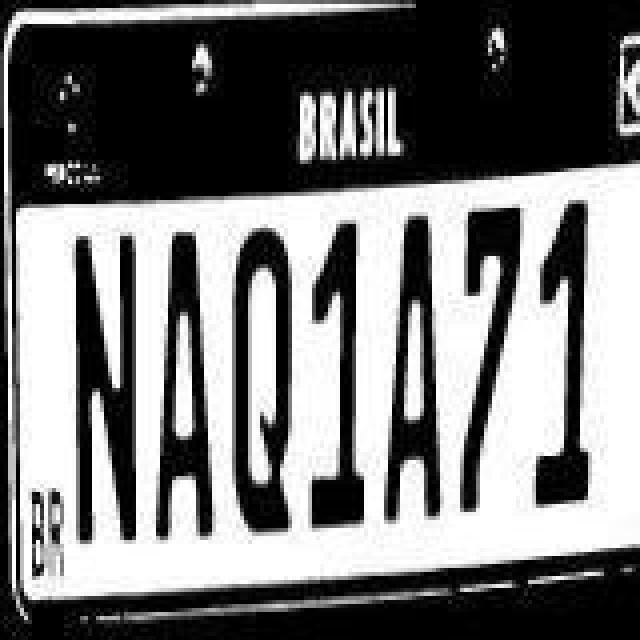1: (528, 202, 600, 510), (306, 220, 374, 536)
7: (452, 200, 524, 516)
A: (150, 230, 226, 550), (382, 214, 450, 526)
N: (74, 228, 150, 548)
Q: (228, 220, 300, 536)
